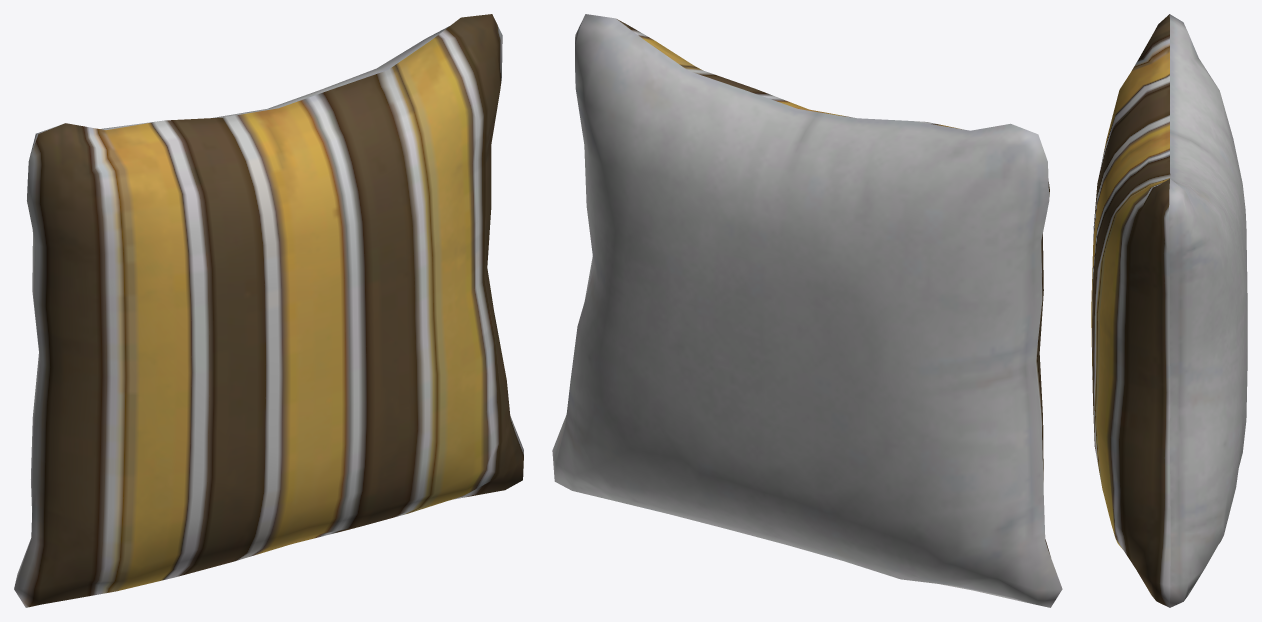
Rendered from p6_pillow_boat_01_lod0.glb.
3 views of the same model, side by side, from view 1: azimuth 30°, elevation 25°; view 2: azimuth 150°, elevation 25°; view 3: azimuth 270°, elevation 25° (orthographic). The views are drawn at different scales.
Parts seen in each view (by area): view 1: surf0; view 2: surf0; view 3: surf0.
Part boxes in pixels (<box>): surf0: <box>14,14,523,607</box>; surf0: <box>552,14,1062,607</box>; surf0: <box>1091,14,1247,607</box>.
Bounding box in the file's own units: 21.75 × 19.9 × 6.78.
